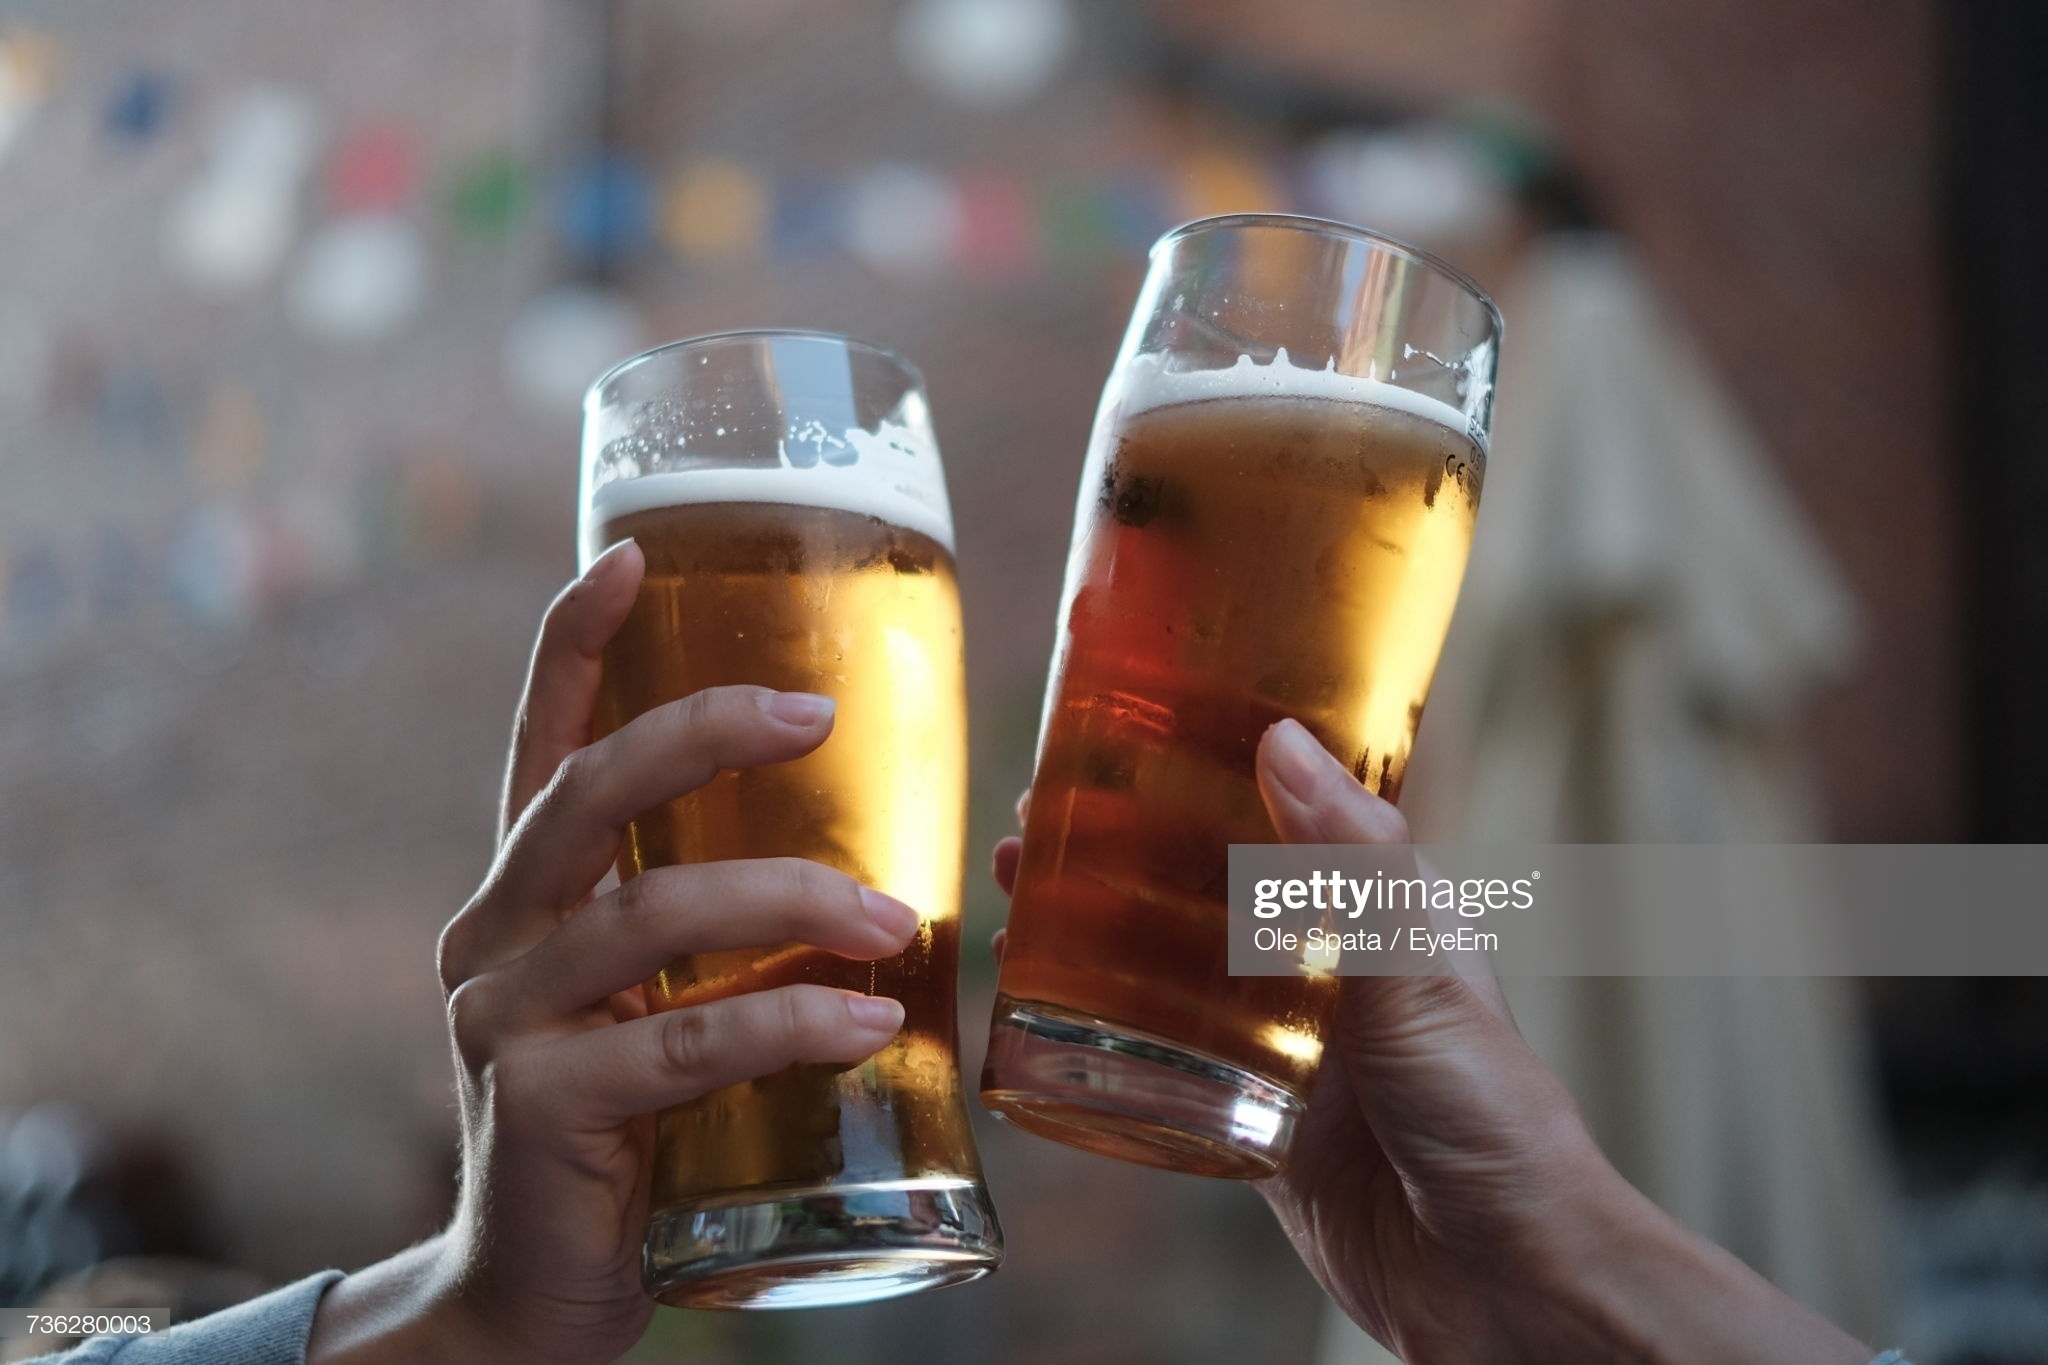whiskey: (982, 215, 1488, 1181), (565, 363, 993, 1258)
